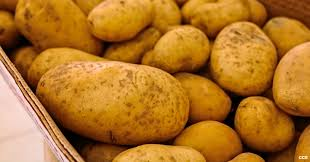potato: (44, 60, 189, 134), (207, 20, 269, 89), (275, 36, 310, 114), (151, 24, 207, 68)
